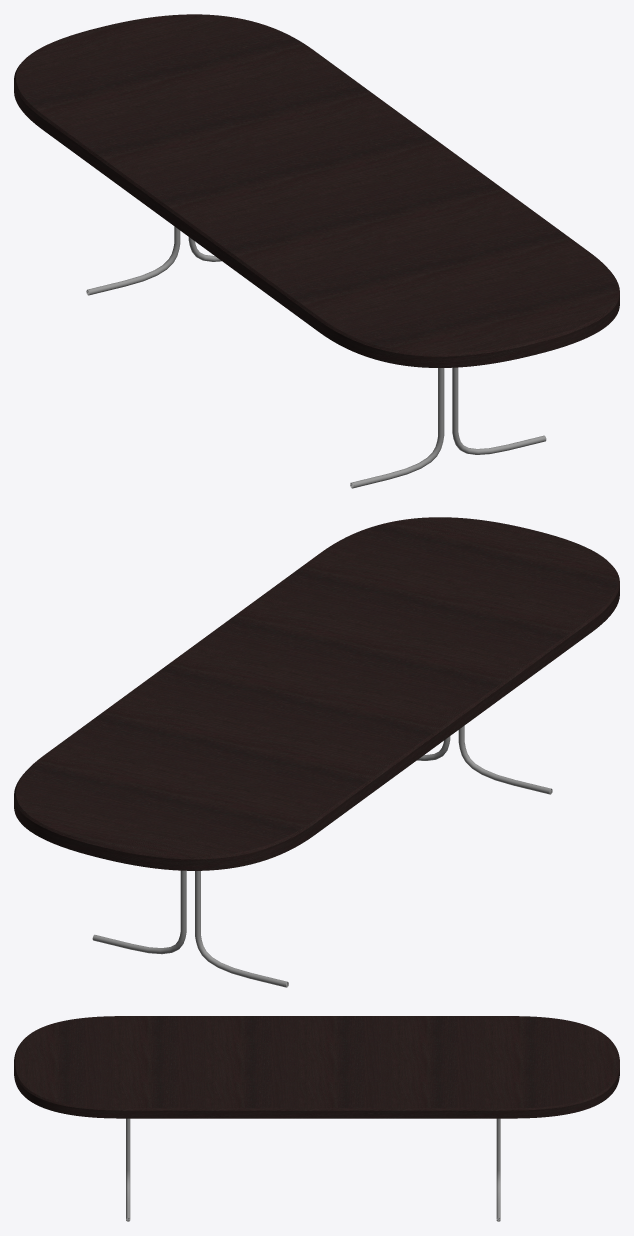
The model's file is table.FBX.
3 renders of one model, top to bottom at view 1: azimuth 30°, elevation 25°; view 2: azimuth 150°, elevation 25°; view 3: azimuth 270°, elevation 25°, orthographic. The views are drawn at different scales.
Parts seen in each view (by area): view 1: Table, Line003, Line004, Line002; view 2: Table, Line001, Line002, Line003; view 3: Table, Line001, Line004.
Part boxes in pixels (x1=…): Table: x1=14, y1=14, x2=619, y2=367; Line003: x1=350, y1=368, x2=444, y2=488; Line004: x1=452, y1=367, x2=546, y2=454; Line002: x1=86, y1=226, x2=180, y2=295; Table: x1=14, y1=517, x2=619, y2=870; Line001: x1=92, y1=870, x2=186, y2=954; Line002: x1=195, y1=871, x2=288, y2=987; Line003: x1=458, y1=725, x2=552, y2=794; Table: x1=14, y1=1016, x2=619, y2=1118; Line001: x1=496, y1=1118, x2=500, y2=1221; Line004: x1=126, y1=1118, x2=130, y2=1221.
Size of the model in its own units: 30.97 by 19.73 by 84.88.
2 materials, 1 textured.
